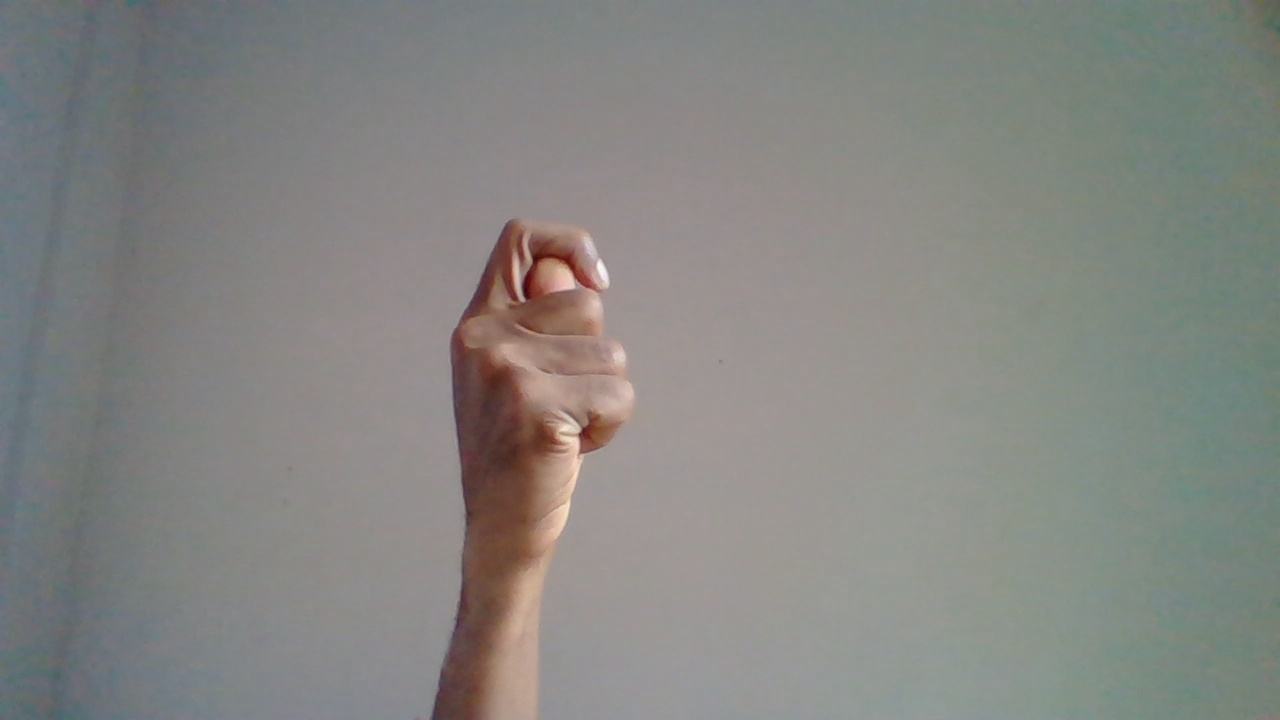che: (445, 215, 601, 686)
